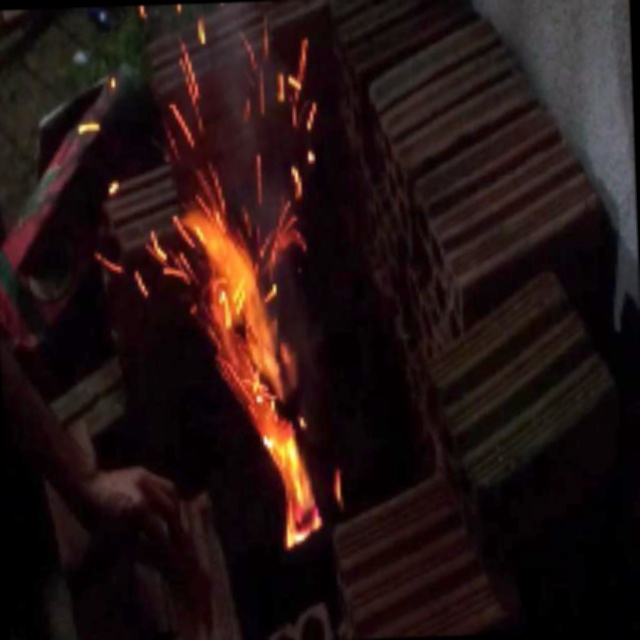fire: (161, 163, 356, 559)
